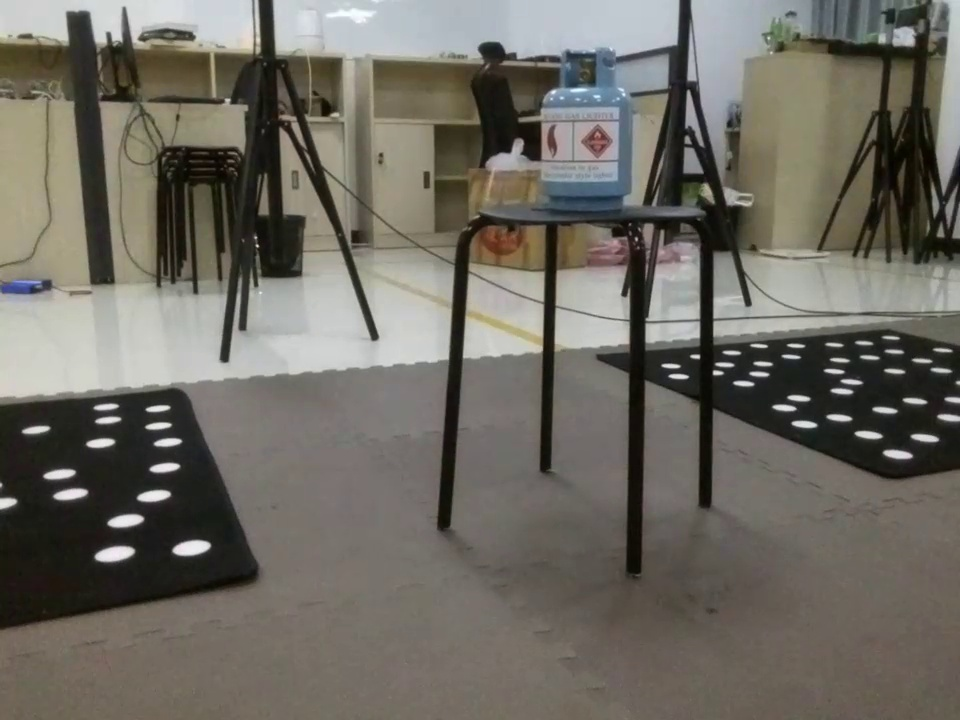gas tank: (529, 42, 639, 216)
